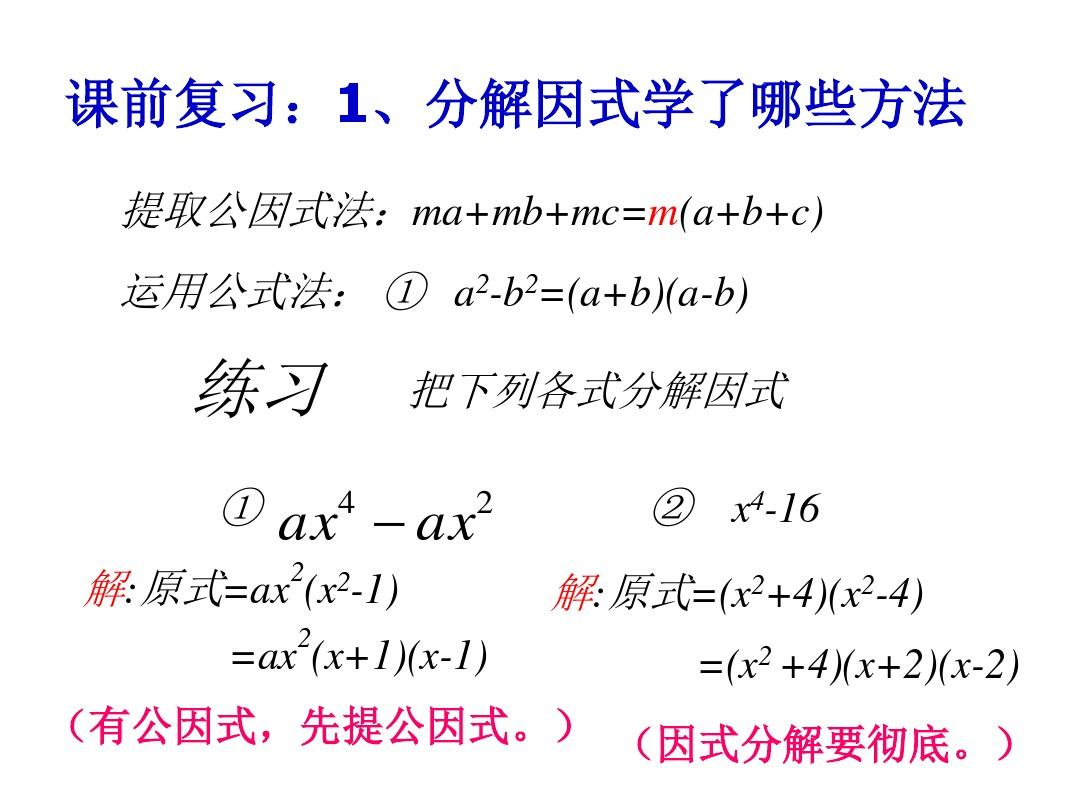square: (754, 640, 774, 668), (473, 490, 494, 514), (298, 622, 316, 650), (747, 577, 770, 598), (521, 273, 543, 294), (473, 268, 490, 295), (288, 559, 304, 587), (857, 571, 874, 597), (336, 571, 352, 594)
